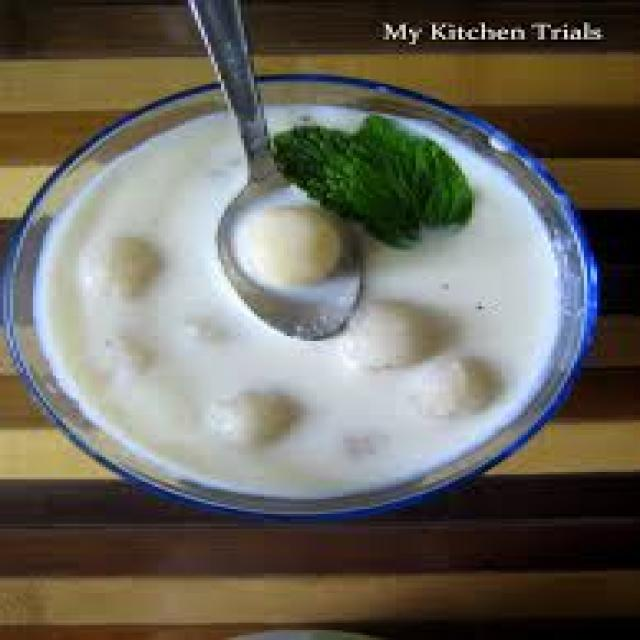paal kolukattai: (24, 131, 593, 500)
